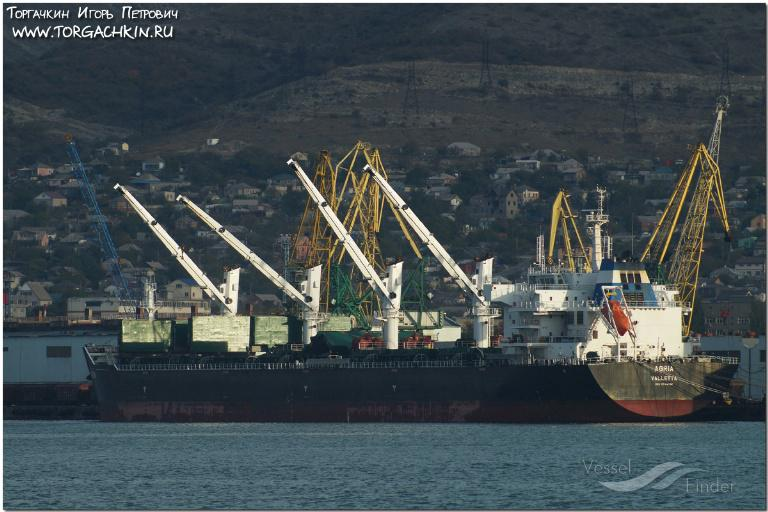OCR: (646, 362, 683, 384)
